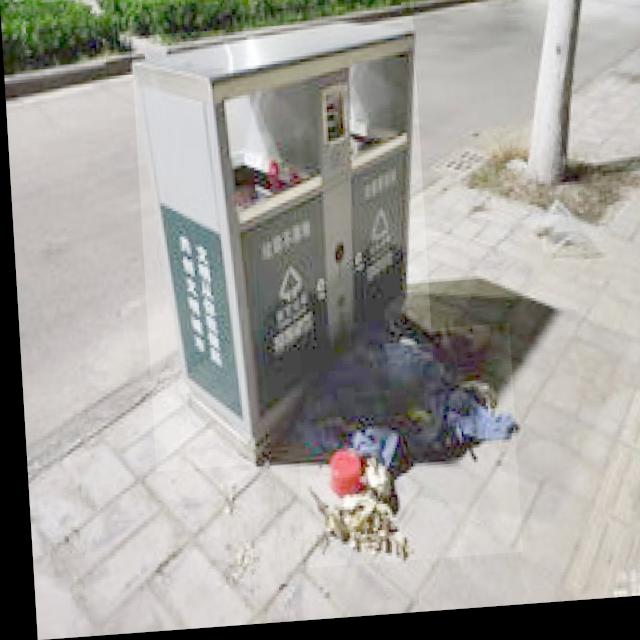garbage: (288, 331, 515, 572)
garbage_bin: (130, 22, 432, 473)
